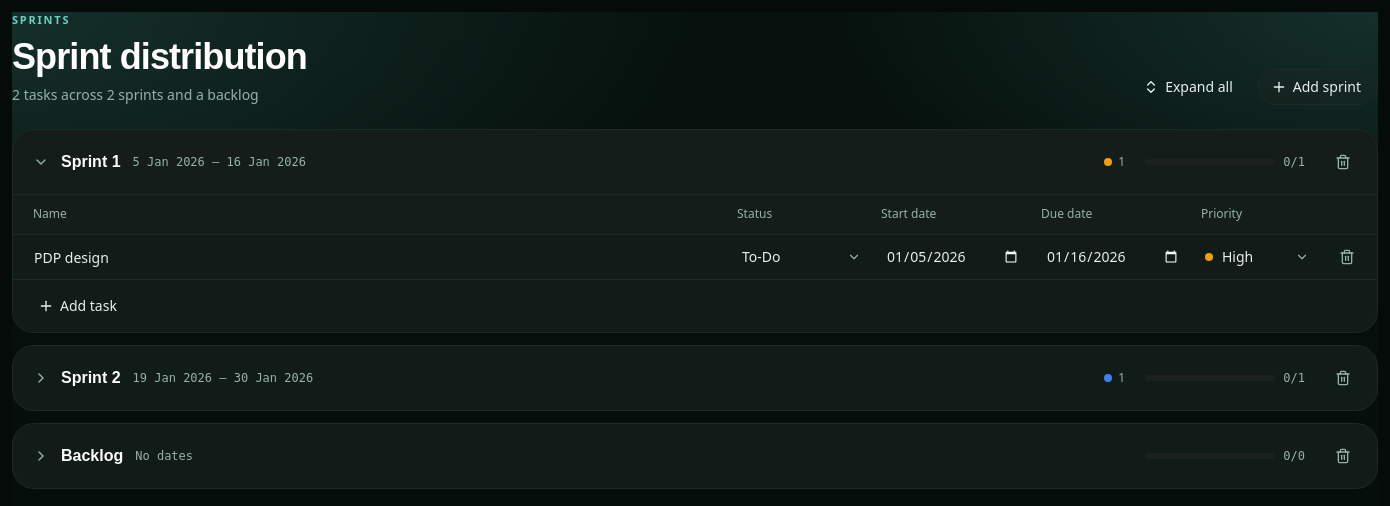
Scenario: Sprints › edits a task name, status and priority
Later steps or results of the test are not shown.
Replace the text in the field named "Name for PDP design" with "PDP build" at (375, 257), box [25,239,725,275]
Then press Enter
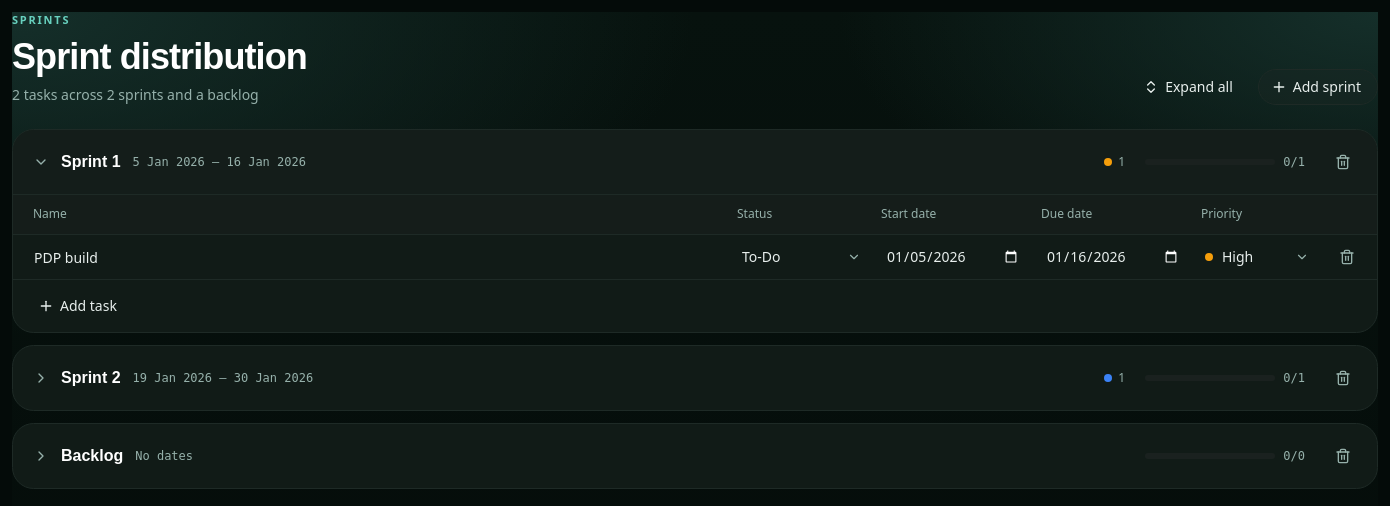
Select "Complete" in the dropdown named "Status for PDP build" at (801, 257), box [733,239,869,275]
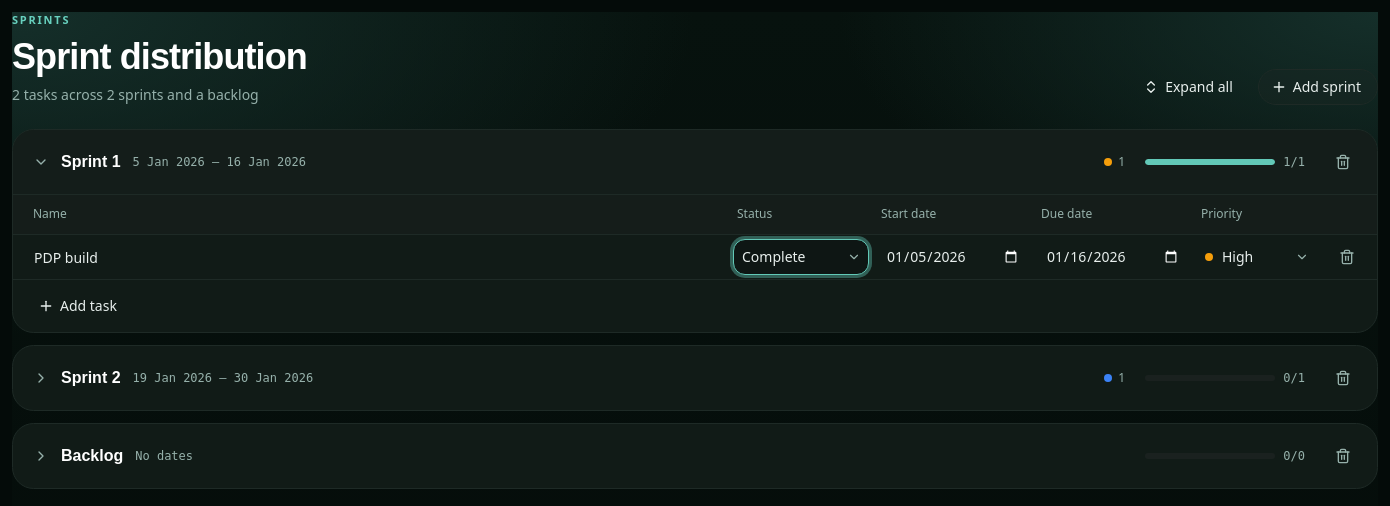
Check: the progress indicator named "Sprint 1 progress" has attribute aria-valuetext="1 of 1 tasks complete", box [1145,158,1275,164]
